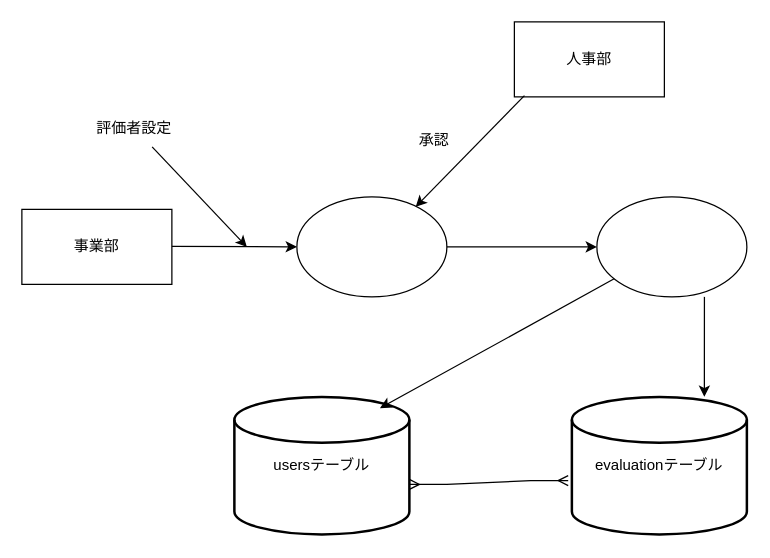
This 770x558 diagram has some shape labels left out. The shapes that lost their labels are listed below. From the top down, each one's centre as x and y in pixels, then its label:
At (x=371, y=246): "承認処理".
At (x=671, y=246): "評価者登録処理".
